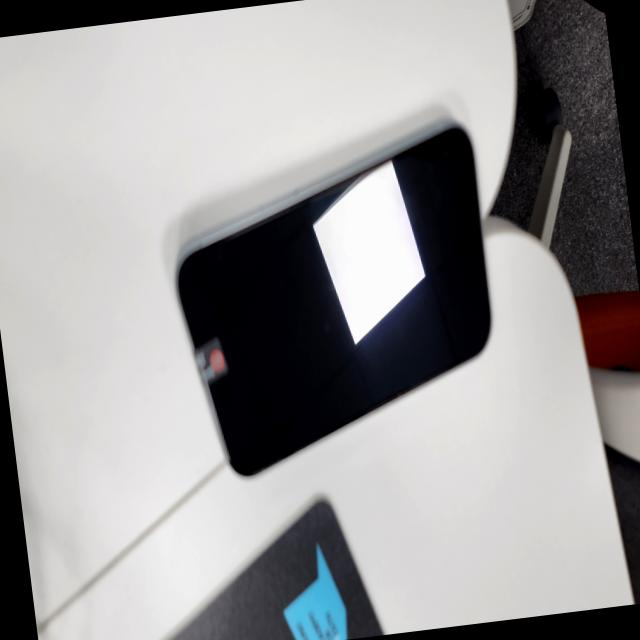phone: (159, 114, 510, 484)
sticker: (191, 336, 228, 386)
